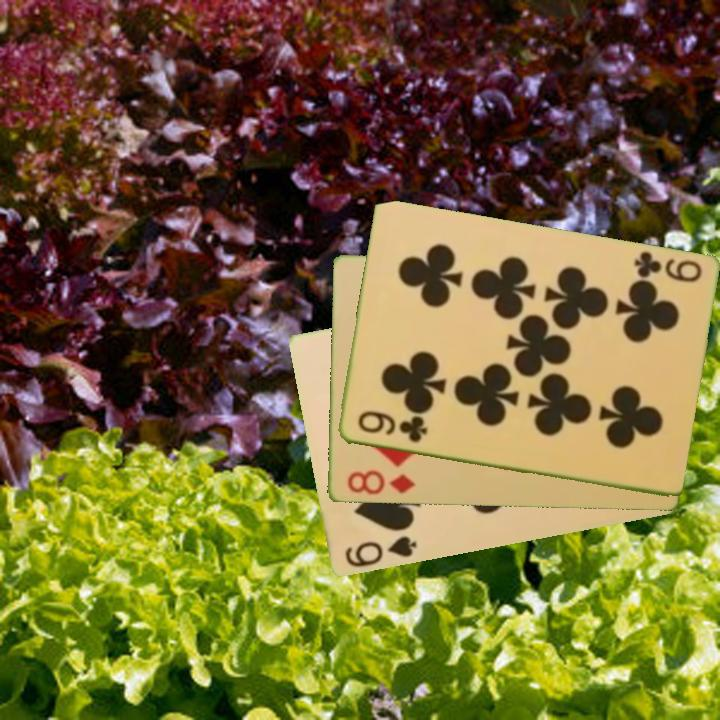6s: (341, 533, 419, 571)
8d: (343, 467, 418, 498)
9c: (354, 408, 430, 446), (630, 248, 705, 286)
